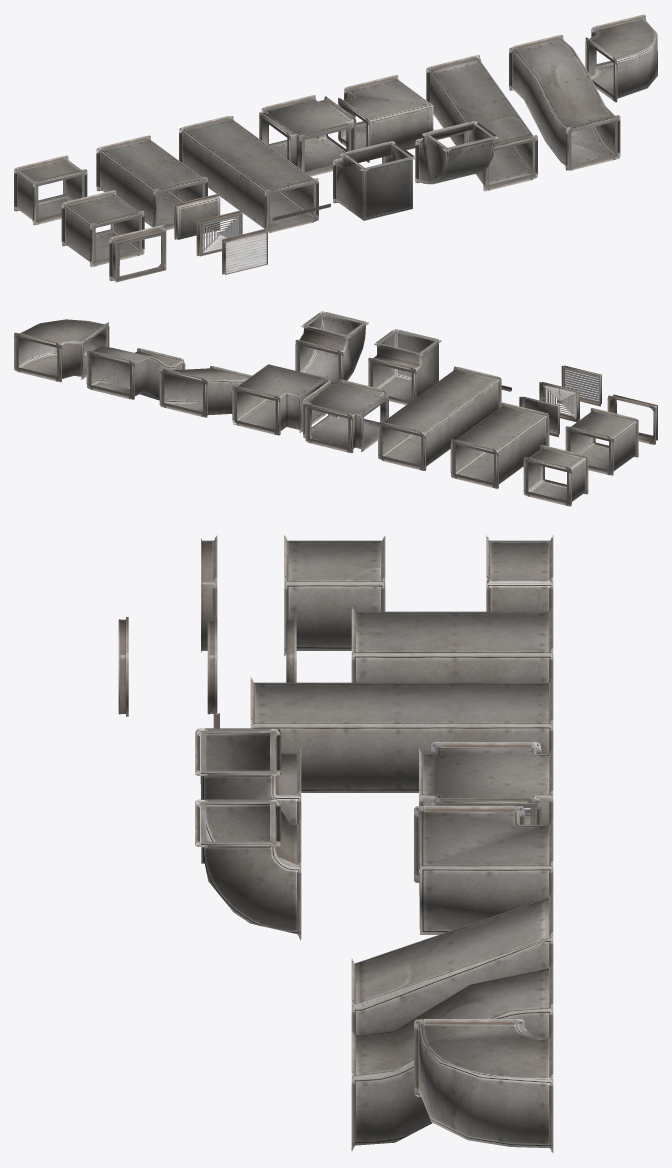
The model's file is ph_airduct.glb.
3 views of the same model, one above another, from view 1: azimuth 30°, elevation 25°; view 2: azimuth 150°, elevation 25°; view 3: azimuth 270°, elevation 25° (orthographic). The views are drawn at different scales.
Visible parts, largest first — view 1: modular_airduct_rectangular_01_tripple_01, modular_airduct_rectangular_01_transition_double_02, modular_airduct_rectangular_01_transition_double_01, modular_airduct_rectangular_01_double_01, modular_airduct_rectangular_01_splitter_01, modular_airduct_rectangular_01_corner_01, modular_airduct_rectangular_01_corner_02, modular_airduct_rectangular_01_bend_02, modular_airduct_rectangular_01_single_01, modular_airduct_rectangular_01_bend_01, modular_airduct_rectangular_01_half_01, modular_airduct_rectangular_01_vent_01 (+3 smaller); view 2: modular_airduct_rectangular_01_tripple_01, modular_airduct_rectangular_01_double_01, modular_airduct_rectangular_01_splitter_01, modular_airduct_rectangular_01_corner_02, modular_airduct_rectangular_01_bend_02, modular_airduct_rectangular_01_corner_01, modular_airduct_rectangular_01_bend_01, modular_airduct_rectangular_01_transition_double_02, modular_airduct_rectangular_01_single_01, modular_airduct_rectangular_01_transition_double_01, modular_airduct_rectangular_01_half_01, modular_airduct_rectangular_01_vent_01 (+3 smaller); view 3: modular_airduct_rectangular_01_tripple_01, modular_airduct_rectangular_01_bend_02, modular_airduct_rectangular_01_corner_02, modular_airduct_rectangular_01_double_01, modular_airduct_rectangular_01_transition_double_01, modular_airduct_rectangular_01_transition_double_02, modular_airduct_rectangular_01_bend_01, modular_airduct_rectangular_01_single_01, modular_airduct_rectangular_01_splitter_01, modular_airduct_rectangular_01_corner_01, modular_airduct_rectangular_01_half_01, modular_airduct_rectangular_01_connector_01 (+2 smaller).
Boxes of the visible parts, left/top/right/bottom form: modular_airduct_rectangular_01_tripple_01: left=179, top=116, right=318, bottom=233; modular_airduct_rectangular_01_transition_double_02: left=509, top=34, right=620, bottom=170; modular_airduct_rectangular_01_transition_double_01: left=426, top=55, right=537, bottom=191; modular_airduct_rectangular_01_double_01: left=96, top=135, right=207, bottom=230; modular_airduct_rectangular_01_splitter_01: left=259, top=95, right=356, bottom=176; modular_airduct_rectangular_01_corner_01: left=333, top=141, right=415, bottom=220; modular_airduct_rectangular_01_corner_02: left=338, top=75, right=433, bottom=162; modular_airduct_rectangular_01_bend_02: left=585, top=14, right=657, bottom=102; modular_airduct_rectangular_01_single_01: left=61, top=190, right=144, bottom=267; modular_airduct_rectangular_01_bend_01: left=415, top=121, right=498, bottom=184; modular_airduct_rectangular_01_half_01: left=14, top=155, right=87, bottom=225; modular_airduct_rectangular_01_vent_01: left=222, top=228, right=267, bottom=274; modular_airduct_rectangular_01_tripple_01: left=378, top=366, right=501, bottom=470; modular_airduct_rectangular_01_double_01: left=450, top=402, right=549, bottom=488; modular_airduct_rectangular_01_splitter_01: left=303, top=379, right=388, bottom=453; modular_airduct_rectangular_01_corner_02: left=232, top=364, right=327, bottom=435; modular_airduct_rectangular_01_bend_02: left=14, top=319, right=109, bottom=382; modular_airduct_rectangular_01_corner_01: left=368, top=329, right=441, bottom=404; modular_airduct_rectangular_01_bend_01: left=295, top=311, right=368, bottom=384; modular_airduct_rectangular_01_transition_double_02: left=86, top=346, right=185, bottom=400; modular_airduct_rectangular_01_single_01: left=565, top=408, right=638, bottom=475; modular_airduct_rectangular_01_transition_double_01: left=159, top=366, right=251, bottom=417; modular_airduct_rectangular_01_half_01: left=523, top=445, right=588, bottom=506; modular_airduct_rectangular_01_vent_01: left=561, top=365, right=601, bottom=406; modular_airduct_rectangular_01_tripple_01: left=250, top=677, right=553, bottom=792; modular_airduct_rectangular_01_bend_02: left=414, top=1019, right=553, bottom=1153; modular_airduct_rectangular_01_corner_02: left=414, top=805, right=553, bottom=934; modular_airduct_rectangular_01_double_01: left=351, top=606, right=553, bottom=682; modular_airduct_rectangular_01_transition_double_01: left=351, top=891, right=553, bottom=1034; modular_airduct_rectangular_01_transition_double_02: left=351, top=962, right=553, bottom=1150; modular_airduct_rectangular_01_bend_01: left=195, top=799, right=301, bottom=940; modular_airduct_rectangular_01_single_01: left=284, top=535, right=385, bottom=656; modular_airduct_rectangular_01_splitter_01: left=419, top=742, right=553, bottom=868; modular_airduct_rectangular_01_corner_01: left=195, top=728, right=301, bottom=863; modular_airduct_rectangular_01_half_01: left=486, top=535, right=553, bottom=611; modular_airduct_rectangular_01_connector_01: left=201, top=535, right=217, bottom=652.
Size of the model in its own units: 7.66 by 1.08 by 2.59.
2 materials, 2 textured.
